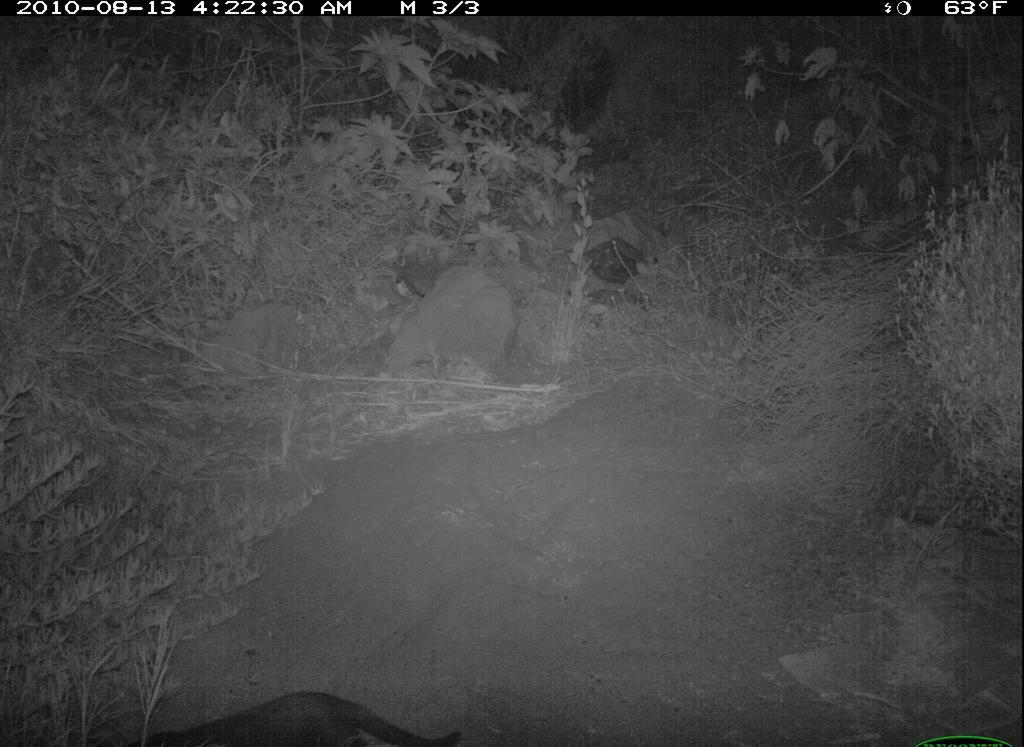cat: (116, 688, 466, 747)
